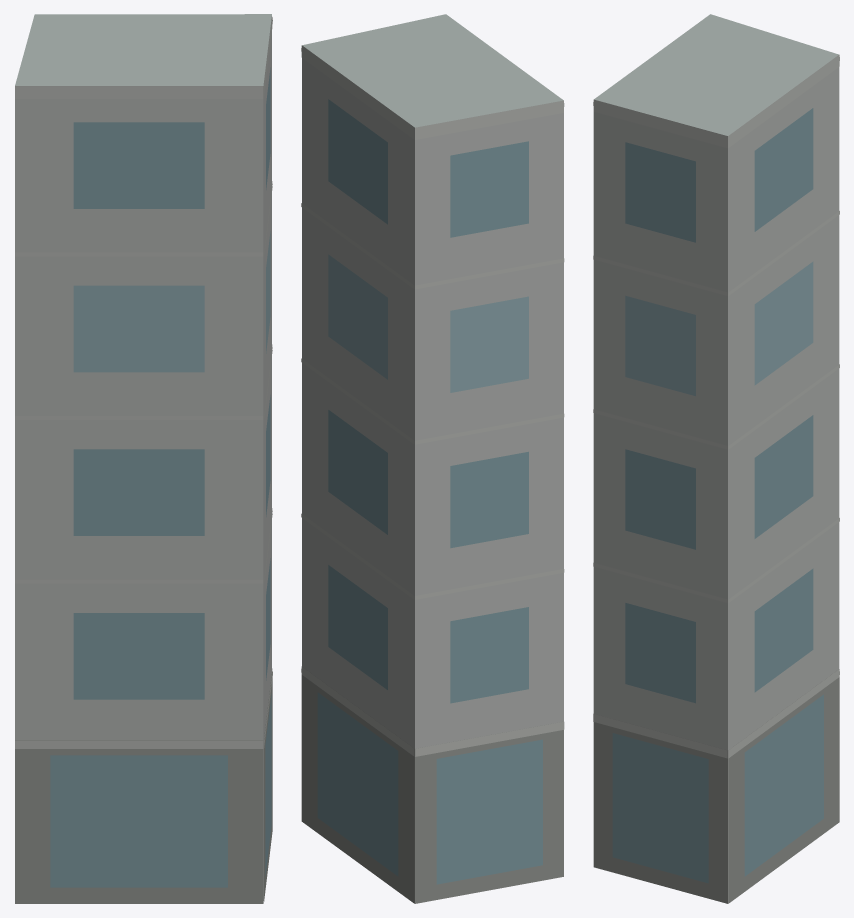
Rendered from survey-upis-32907115.glb.
3 renders of one model, left to right at view 1: azimuth 30°, elevation 25°; view 2: azimuth 150°, elevation 25°; view 3: azimuth 270°, elevation 25°, orthographic. The views are drawn at different scales.
Parts seen in each view (by area): view 1: survey-upis-32907115.tmp; view 2: survey-upis-32907115.tmp; view 3: survey-upis-32907115.tmp.
Part boxes in pixels (box(x1,y1,x2,y2)): survey-upis-32907115.tmp: box(15, 14, 272, 903); survey-upis-32907115.tmp: box(301, 14, 564, 903); survey-upis-32907115.tmp: box(593, 14, 839, 903).
Size of the model in its own units: 5.23 by 15.25 by 4.44.
